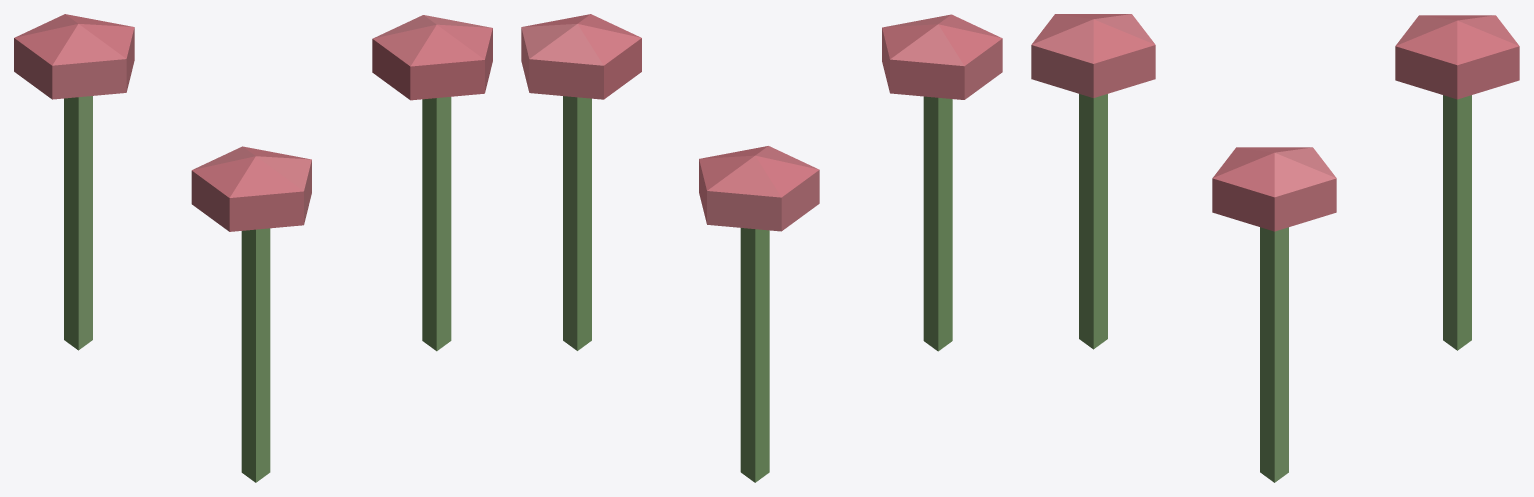
Rendered from flower_r.glb.
3 views of the same model, side by side, from view 1: azimuth 30°, elevation 25°; view 2: azimuth 150°, elevation 25°; view 3: azimuth 270°, elevation 25° (orthographic).
Visible parts, largest first — view 1: flower_r2; view 2: flower_r2; view 3: flower_r2.
Boxes of the visible parts, x1,y1,x2,y2 form: flower_r2: [14, 14, 492, 482]; flower_r2: [521, 14, 1002, 482]; flower_r2: [1031, 14, 1519, 482].
Size of the model in its own units: 0.5172 by 0.425 by 0.582.
